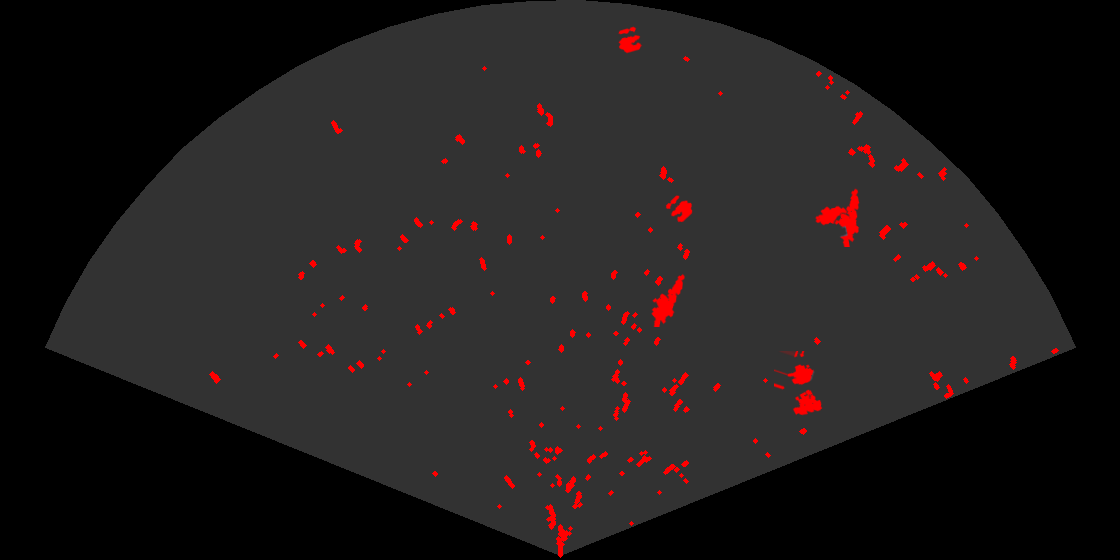AUV: (814, 204, 854, 227)
ball: (664, 194, 694, 224), (617, 25, 644, 55)
cage: (774, 351, 824, 417)
frogman: (650, 272, 686, 327), (833, 187, 861, 247)
